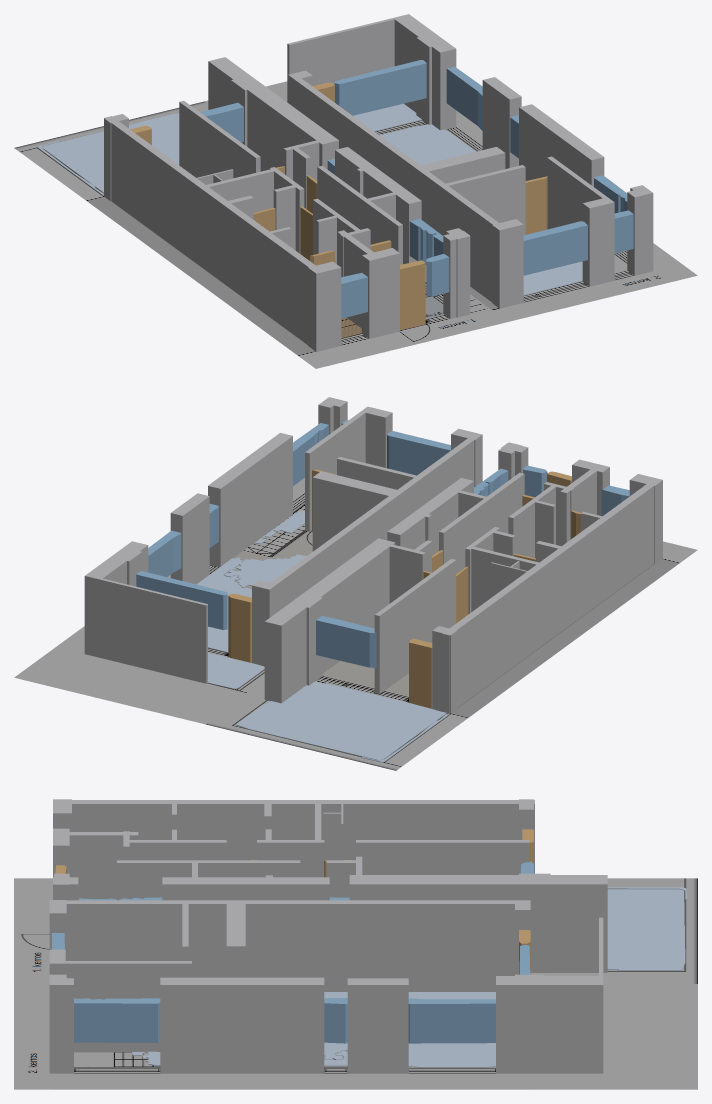
The picture shows the model from 3 angles, top to bottom: view 1: azimuth 30°, elevation 25°; view 2: azimuth 150°, elevation 25°; view 3: azimuth 270°, elevation 25°; orthographic projection. The views are drawn at different scales.
Visible parts, largest first — view 1: wall-006, plan_floor, wall-009, wall-001, wall-002, wall-018, wall-010, window-002, room-002, wall-003, wall-028, wall-020 (+37 smaller); view 2: plan_floor, wall-006, wall-002, room-002, wall-001, wall-009, wall-018, wall-010, wall-024, wall-020, wall-011, wall-027 (+29 smaller); view 3: plan_floor, wall-009, wall-006, wall-018, wall-001, wall-003, room-002, wall-011, wall-010, wall-027, wall-020, wall-016 (+21 smaller).
Part boxes in pixels (x1,y1,x2,y2): wall-006: (104,116,324,351); plan_floor: (14,81,697,368); wall-009: (288,74,506,308); wall-001: (208,57,338,171); wall-002: (287,14,410,102); wall-018: (519,104,604,186); wall-010: (179,100,260,178); window-002: (334,60,426,115); room-002: (43,113,179,192); wall-003: (394,14,456,130); wall-028: (439,165,525,235); wall-020: (317,166,402,264); plan_floor: (14,477,697,770); wall-006: (442,478,661,713); wall-002: (84,575,207,683); room-002: (235,681,446,760); wall-001: (264,538,395,703); wall-009: (263,433,481,665); wall-018: (208,433,292,566); wall-010: (374,559,455,694); wall-024: (312,471,403,551); wall-020: (439,472,524,573); wall-011: (170,493,209,584); wall-027: (305,406,371,531); plan_floor: (14,878,697,1089); wall-009: (49,900,530,991); wall-006: (53,800,534,873); wall-018: (160,977,324,1073); wall-001: (349,875,607,972); wall-003: (496,976,603,1073); room-002: (607,889,685,970); wall-011: (347,978,408,1073); wall-010: (356,840,529,874); wall-027: (49,961,191,1052); wall-020: (117,860,300,900); wall-016: (162,877,329,900).
Bounding box in the file's own units: 13.79 × 2.7 × 18.87.
Materials: 1 (1 with a texture image).
